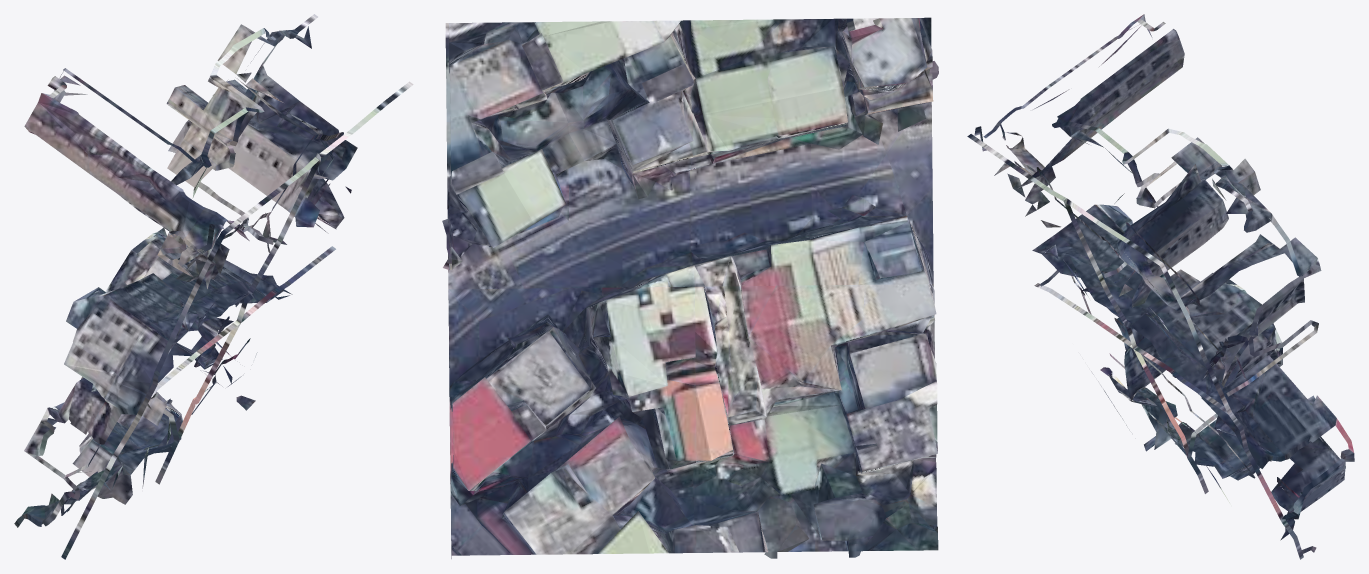
The picture shows the model from 3 angles, left to right: view 1: azimuth 30°, elevation 25°; view 2: azimuth 150°, elevation 25°; view 3: azimuth 270°, elevation 25°; orthographic projection. The views are drawn at different scales.
Bounding box in the file's own units: 80.64 × 87.52 × 73.73.
2 materials, 2 textured.
